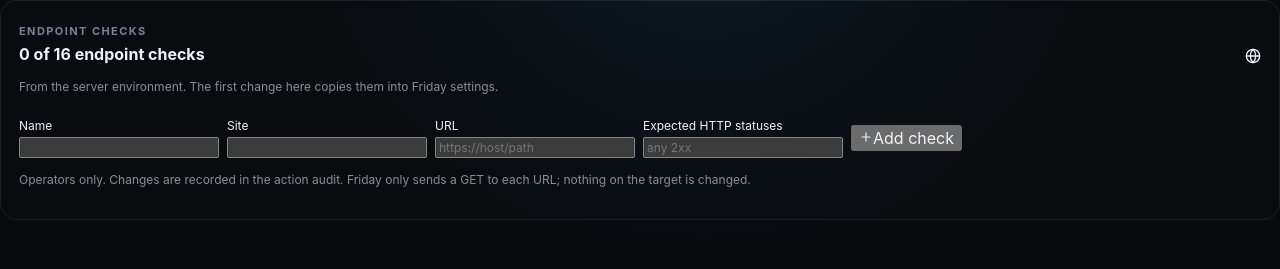
EndpointChecksPanel › explains operator access and invalid input
Type "abc" into the field labelled "Expected HTTP statuses". click: (743, 148)
box: [643, 137, 843, 158]
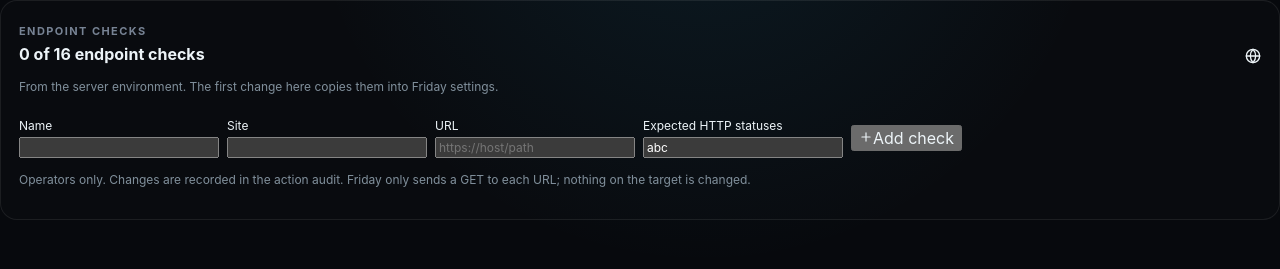
Click the button "Add check". click: click(906, 138)
box: [851, 125, 962, 151]
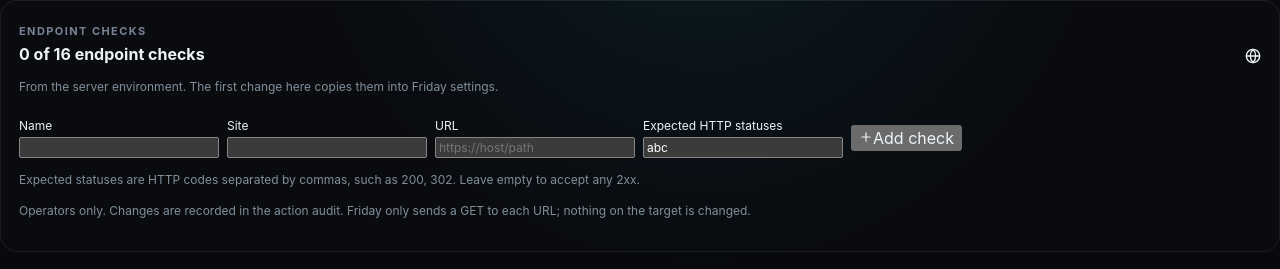
Check: the text "Expected statuses are HTTP codes" is shown, box [19, 172, 640, 187]
Clear the field labelled "Expected HTTP statuses". click: (743, 148)
box: [643, 137, 843, 158]
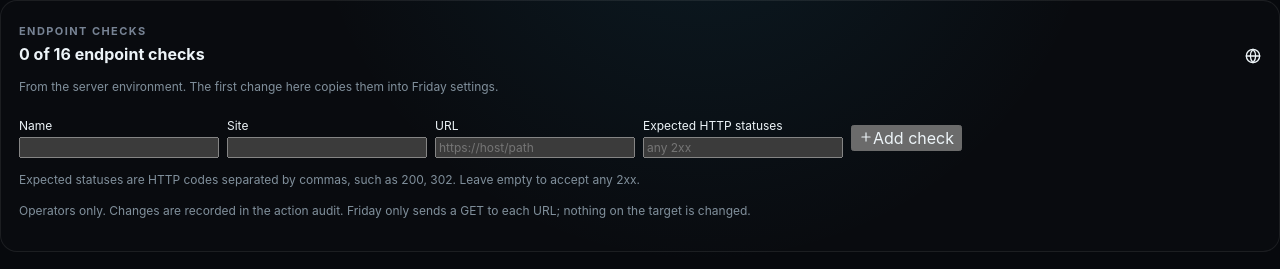
Click the button "Add check". click: click(906, 138)
box: [851, 125, 962, 151]
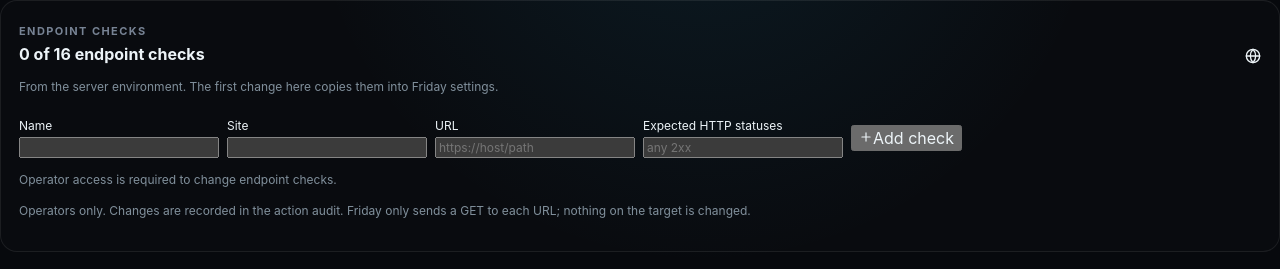
Check: the text "Operator access is required to change endpoint checks." is shown, box [19, 172, 337, 187]
